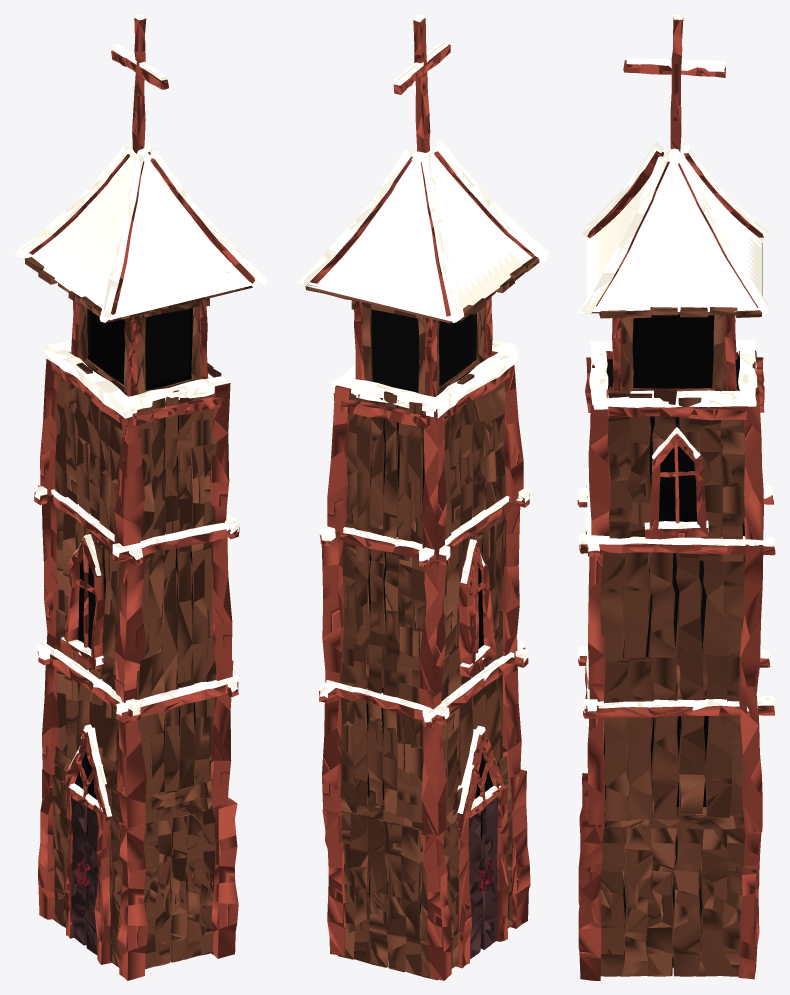
The model's file is TowerAsset 1.fbx.
3 views of the same model, side by side, from view 1: azimuth 30°, elevation 25°; view 2: azimuth 150°, elevation 25°; view 3: azimuth 270°, elevation 25° (orthographic). The views are drawn at different scales.
Parts seen in each view (by area): view 1: TowerOpt; view 2: TowerOpt; view 3: TowerOpt.
Part boxes in pixels (left/top/right/bottom): TowerOpt: left=14, top=14, right=267, bottom=980; TowerOpt: left=296, top=14, right=548, bottom=980; TowerOpt: left=577, top=14, right=775, bottom=980.
Bounding box in the file's own units: 1086 × 5815 × 1109.
